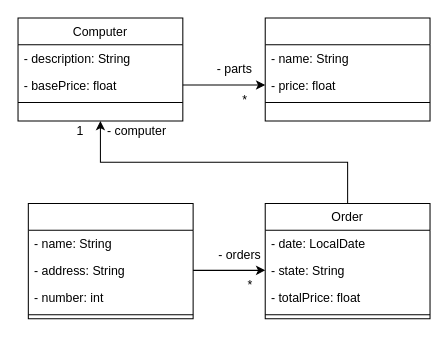
Some shapes in this 448 by 337 pixel diagram are drawn without their labels. The box of each missing label's shape, as (x1, y1, x2, y2) in pixels:
Client: (27, 202, 193, 319)
ComputerParts: (264, 17, 430, 121)
